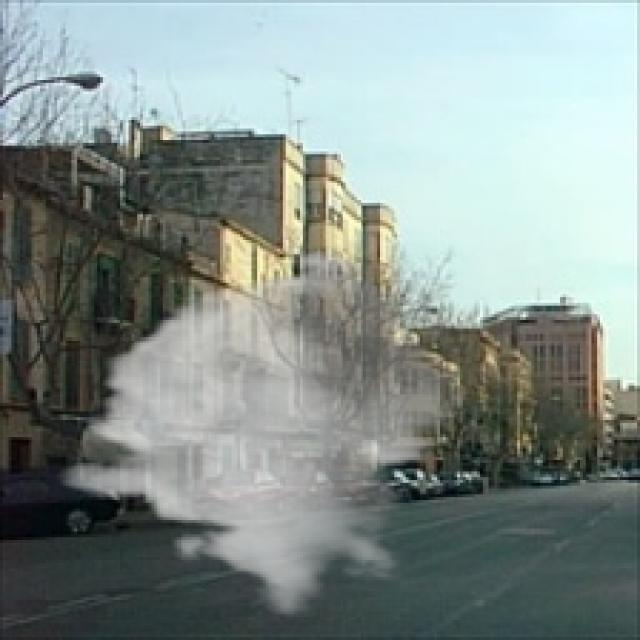Smoke: (54, 245, 477, 618)
